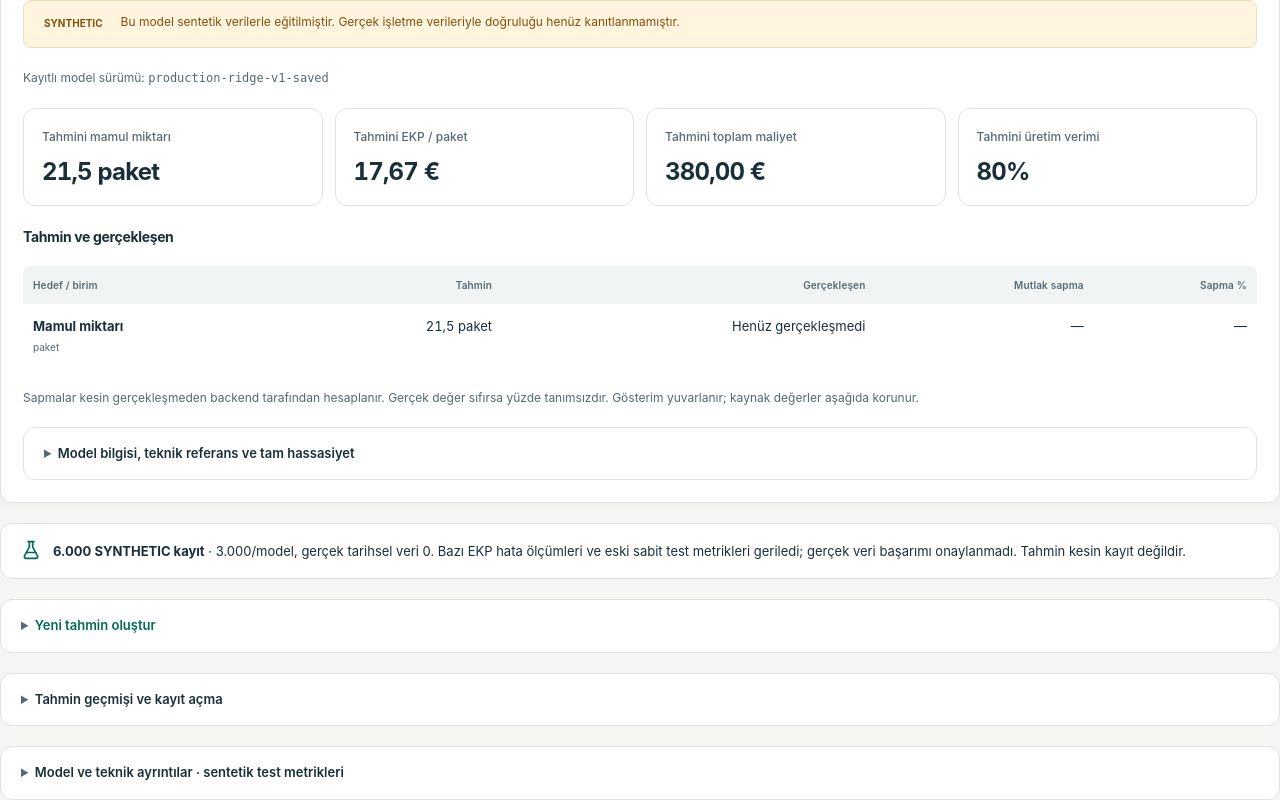
Test: eski tahmin sürümü görünür kalır; güncel model metrikleri eski kayda mal edilmez
(page scrolled)
Expected: the text "production-ridge-v1-saved" is shown, [148,71,329,85]
Expected: the text "Henüz gerçekleşmedi" is shown, [502,304,876,368]
Click the heading "Model ve teknik ayrıntılar · sentetik test metrikleri" at (189, 772), box [35,764,344,780]
(page scrolled)
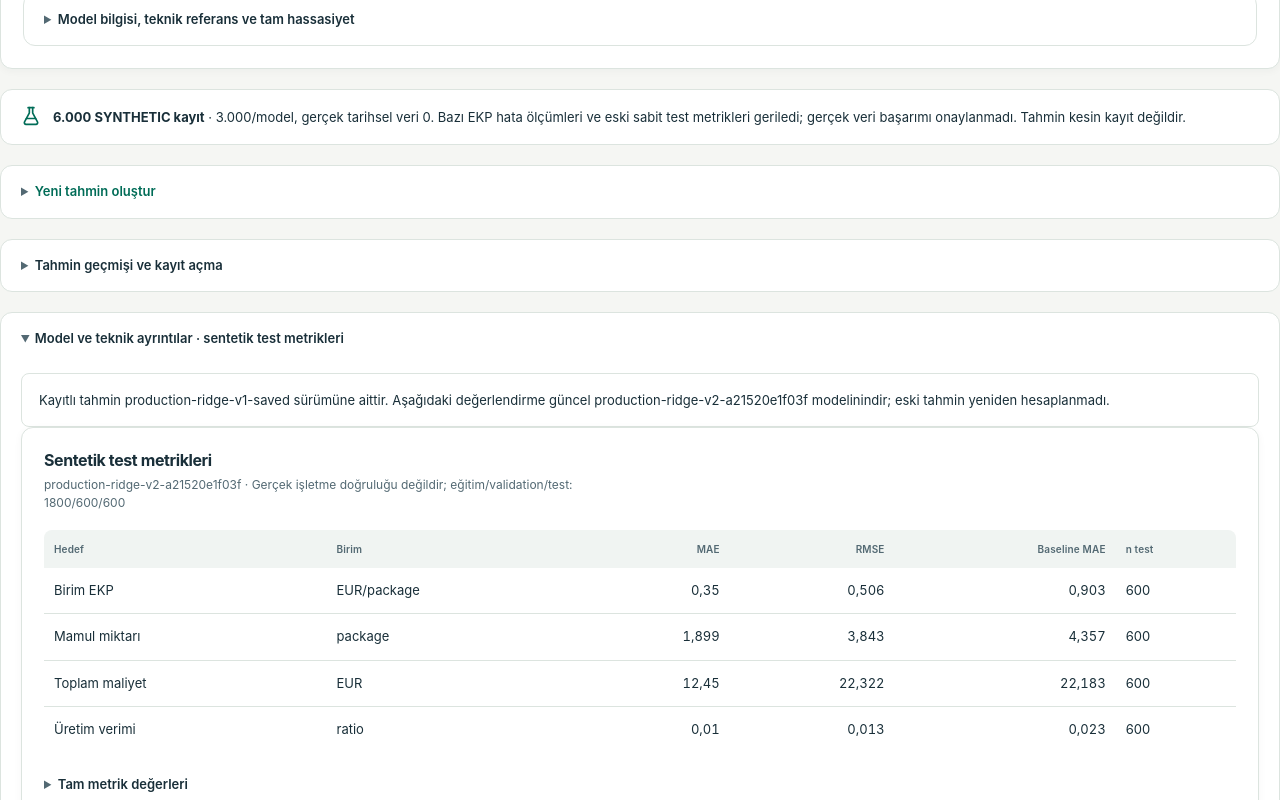
Result: the text "eski tahmin yeniden hesaplanmadı" is shown at [808,392,1110,408]
